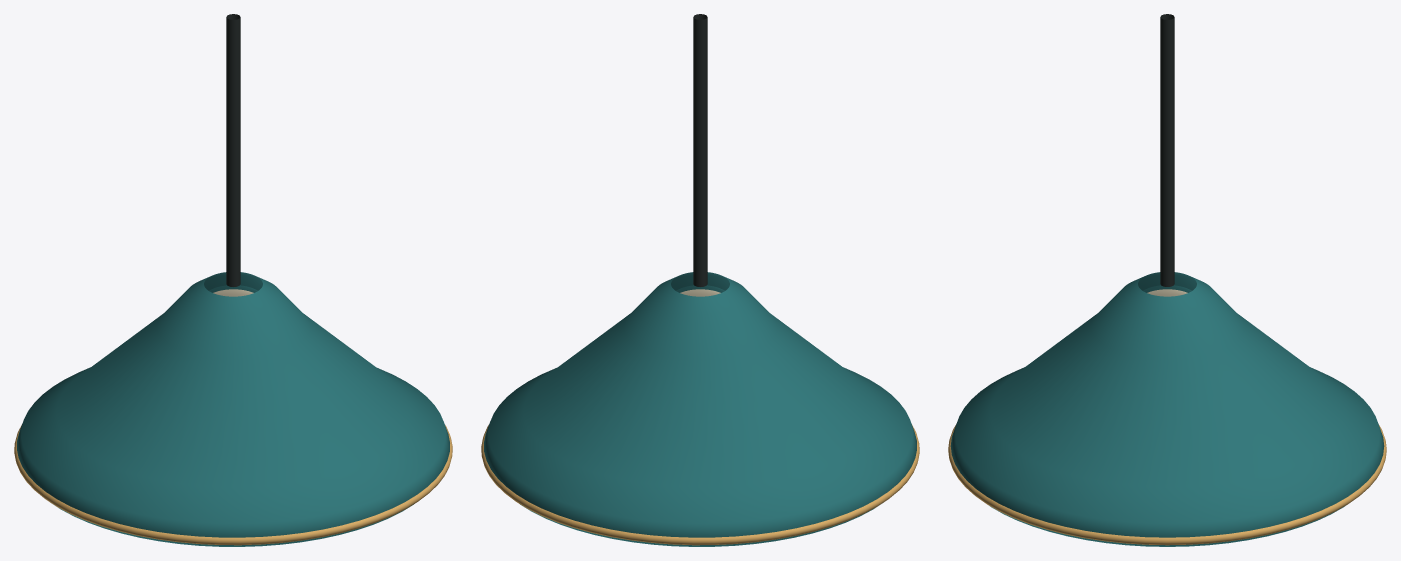
The model's file is PendantLamp.fbx.
3 views of the same model, side by side, from view 1: azimuth 30°, elevation 25°; view 2: azimuth 150°, elevation 25°; view 3: azimuth 270°, elevation 25° (orthographic).
Visible parts, largest first — view 1: PendantLamp_Body; view 2: PendantLamp_Body; view 3: PendantLamp_Body.
Part boxes in pixels (bbox=[...]): PendantLamp_Body: bbox=[14, 14, 452, 546]; PendantLamp_Body: bbox=[481, 14, 919, 546]; PendantLamp_Body: bbox=[948, 14, 1386, 546].
Size of the model in its own units: 0.372 by 0.412 by 0.372.
